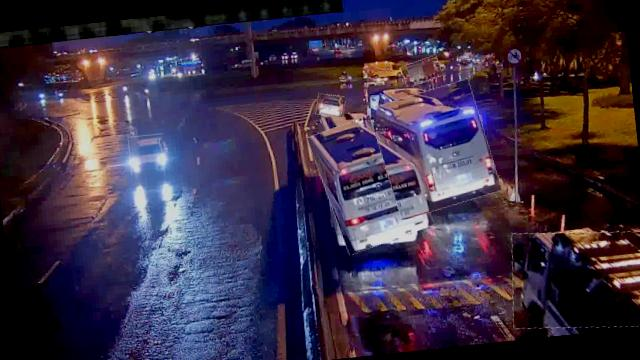Bus: (372, 82, 498, 218), (312, 108, 429, 252), (506, 223, 640, 337)
Car: (128, 134, 167, 176), (315, 93, 346, 118)
Truck: (401, 56, 442, 86)
